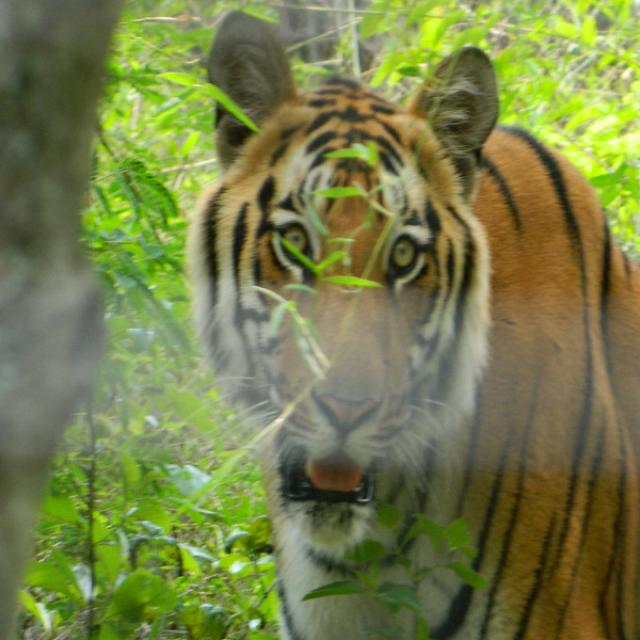Tiger: (186, 7, 638, 636)
